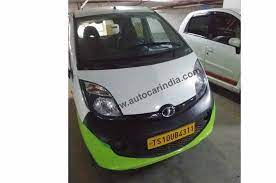Nano: (68, 9, 216, 179)
